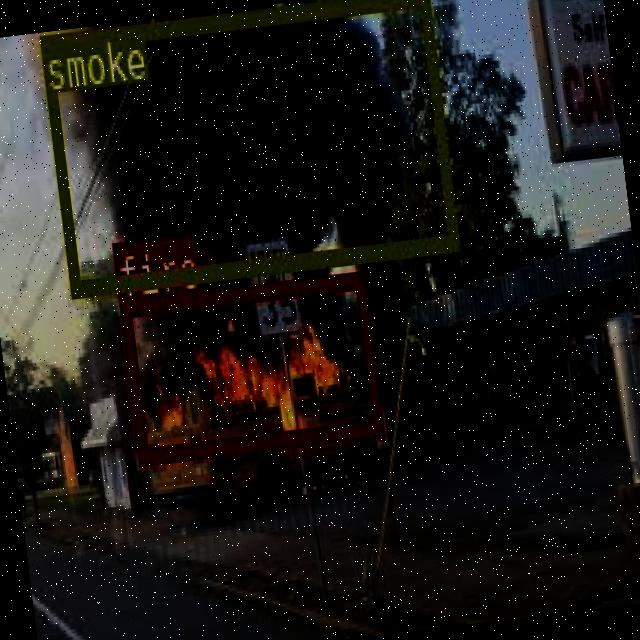fire: (118, 270, 382, 463)
smoke: (38, 0, 457, 295)
